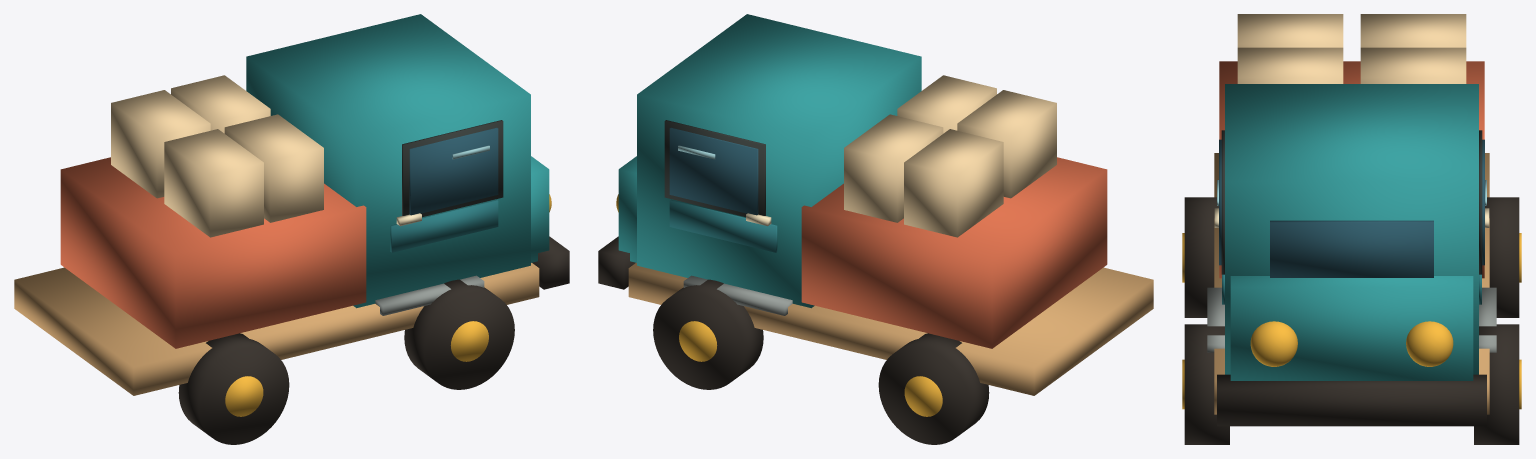
File: fleet-cargo.glb
3 renders of one model, left to right at view 1: azimuth 30°, elevation 25°; view 2: azimuth 150°, elevation 25°; view 3: azimuth 270°, elevation 25°, orthographic. The views are drawn at different scales.
Visible parts, largest first — view 1: Cargo_Cab, Cargo_Bed, Cargo_Chassis, Cargo_Crate_1_0, Cargo_Wheel_3, Cargo_Wheel_1, Cargo_Crate_0_0, Cargo_Crate_1_1, Cargo_Left_Window, Cargo_Crate_0_1, Cargo_Door_Panel_Left, Cargo_Window_Trim_Left (+5 smaller); view 2: Cargo_Cab, Cargo_Bed, Cargo_Chassis, Cargo_Crate_1_1, Cargo_Wheel_4, Cargo_Wheel_2, Cargo_Crate_0_1, Cargo_Crate_1_0, Cargo_Right_Window, Cargo_Crate_0_0, Cargo_Door_Panel_Right, Cargo_Window_Trim_Right (+5 smaller); view 3: Cargo_Cab, Cargo_Hood, Cargo_Bumper, Cargo_Front_Window, Cargo_Wheel_1, Cargo_Wheel_2, Cargo_Crate_0_0, Cargo_Crate_0_1, Cargo_Crate_1_0, Cargo_Crate_1_1, Cargo_Wheel_3, Cargo_Wheel_4 (+10 smaller).
Boxes of the visible parts, box(x1,y1,x2,y2) form: Cargo_Cab: box(246, 14, 530, 308); Cargo_Bed: box(60, 157, 366, 348); Cargo_Chassis: box(14, 263, 539, 395); Cargo_Crate_1_0: box(164, 129, 263, 237); Cargo_Wheel_3: box(178, 333, 289, 444); Cargo_Wheel_1: box(404, 279, 514, 389); Cargo_Crate_0_0: box(224, 114, 323, 222); Cargo_Crate_1_1: box(111, 90, 210, 198); Cargo_Left_Window: box(409, 127, 498, 215); Cargo_Crate_0_1: box(171, 75, 270, 133); Cargo_Door_Panel_Left: box(390, 199, 498, 252); Cargo_Window_Trim_Left: box(402, 120, 503, 217); Cargo_Cab: box(637, 14, 921, 308); Cargo_Bed: box(801, 157, 1107, 348); Cargo_Chassis: box(628, 263, 1153, 395); Cargo_Crate_1_1: box(904, 129, 1003, 237); Cargo_Wheel_4: box(878, 333, 989, 444); Cargo_Wheel_2: box(653, 279, 763, 389); Cargo_Crate_0_1: box(844, 114, 943, 222); Cargo_Crate_1_0: box(957, 90, 1056, 198); Cargo_Right_Window: box(669, 127, 758, 215); Cargo_Crate_0_0: box(897, 75, 996, 133); Cargo_Door_Panel_Right: box(669, 199, 777, 252); Cargo_Window_Trim_Right: box(664, 120, 765, 217); Cargo_Cab: box(1225, 84, 1478, 374); Cargo_Hood: box(1230, 276, 1473, 380); Cargo_Bumper: box(1217, 374, 1486, 426); Cargo_Front_Window: box(1270, 220, 1433, 277); Cargo_Wheel_1: box(1184, 324, 1229, 444); Cargo_Wheel_2: box(1474, 324, 1519, 444); Cargo_Crate_0_0: box(1237, 47, 1343, 83); Cargo_Crate_0_1: box(1360, 47, 1466, 83); Cargo_Crate_1_0: box(1237, 14, 1343, 47); Cargo_Crate_1_1: box(1360, 14, 1466, 47); Cargo_Wheel_3: box(1184, 197, 1218, 317); Cargo_Wheel_4: box(1485, 197, 1519, 317).
Size of the model in its own units: 5.44 by 3.08 by 3.14.
